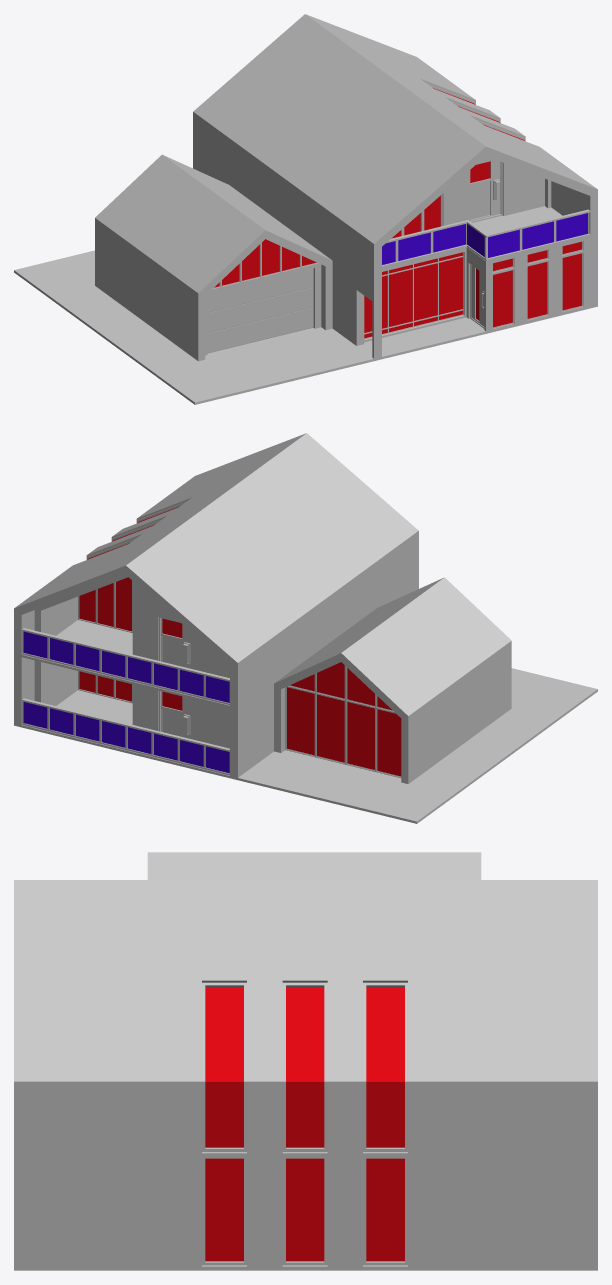
Rendered from SM_cottage_05.gltf.
The picture shows the model from 3 angles, top to bottom: view 1: azimuth 30°, elevation 25°; view 2: azimuth 150°, elevation 25°; view 3: azimuth 270°, elevation 25°; orthographic projection. The views are drawn at different scales.
Visible parts, largest first — view 1: cottage_05; view 2: cottage_05; view 3: cottage_05.
Boxes of the visible parts, left/top/right/bottom form: cottage_05: left=14, top=14, right=597, bottom=404; cottage_05: left=14, top=433, right=597, bottom=823; cottage_05: left=14, top=852, right=597, bottom=1270.
Bounding box in the file's own units: 18 × 8 × 14.
